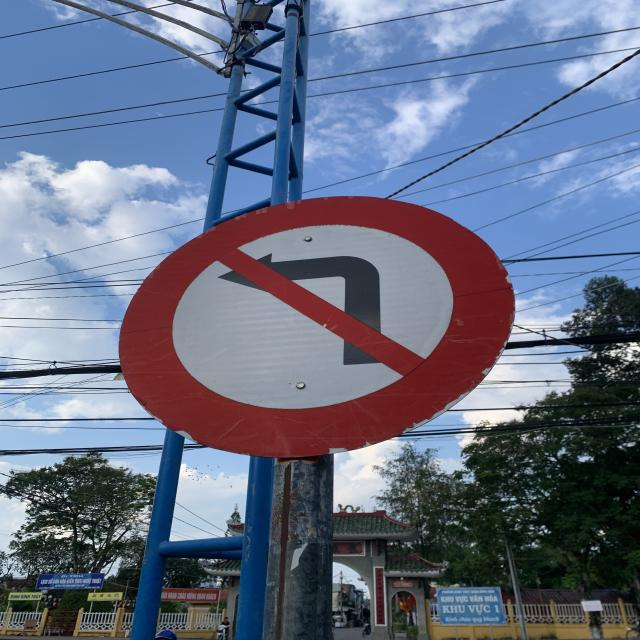Cam_Re_Trai: (120, 192, 518, 461)
